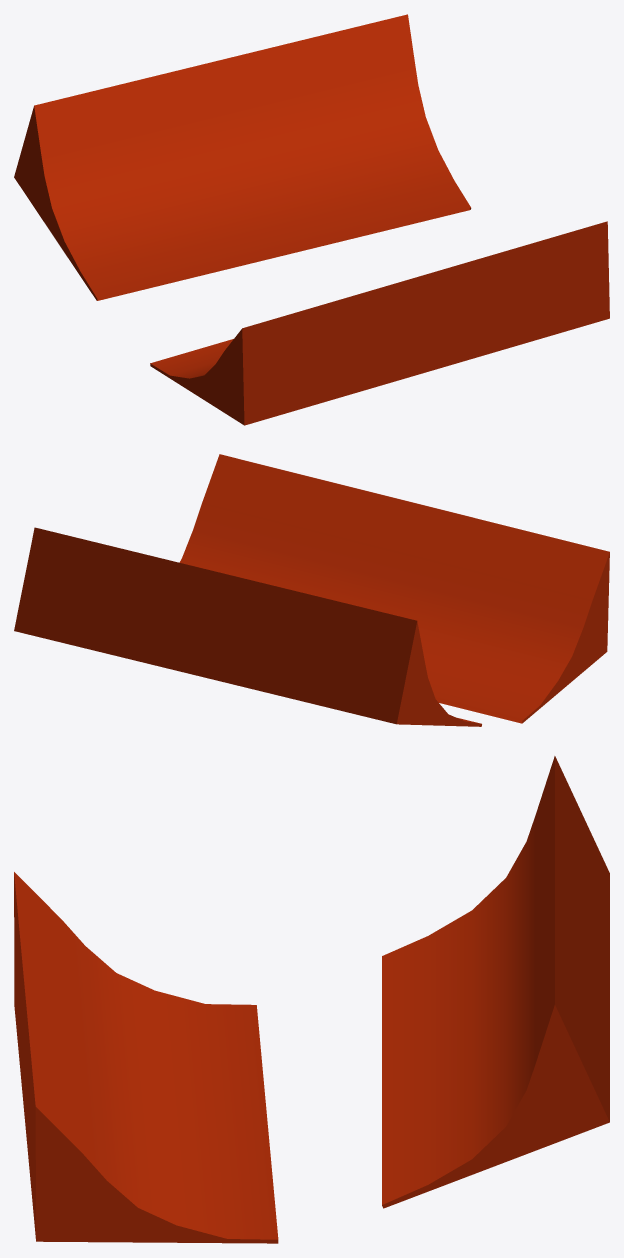
File: Rampa.fbx
3 views of the same model, one above another, from view 1: azimuth 30°, elevation 25°; view 2: azimuth 150°, elevation 25°; view 3: azimuth 270°, elevation 25° (orthographic). The views are drawn at different scales.
Parts seen in each view (by area): view 1: Rampa; view 2: Rampa; view 3: Rampa.
Boxes of the visible parts, box(x1,y1,x2,y2) form: Rampa: box(14, 14, 609, 425); Rampa: box(14, 454, 609, 726); Rampa: box(14, 756, 609, 1243).
Bounding box in the file's own units: 860 × 388 × 843.
